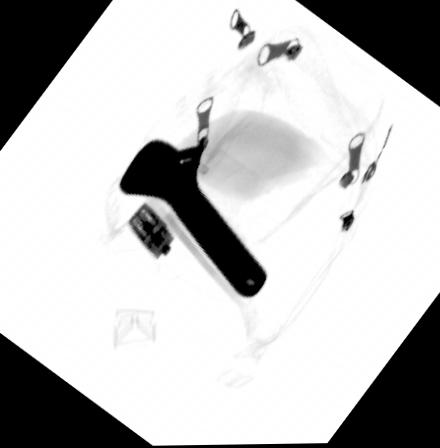Wrench: (115, 137, 269, 300)
